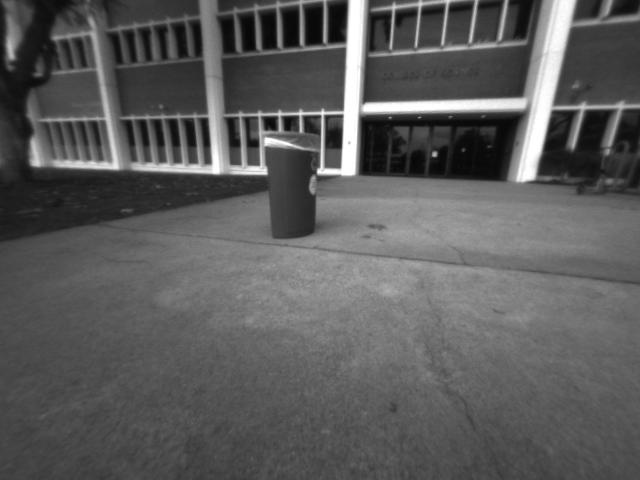trashcan_open: (261, 128, 323, 242)
